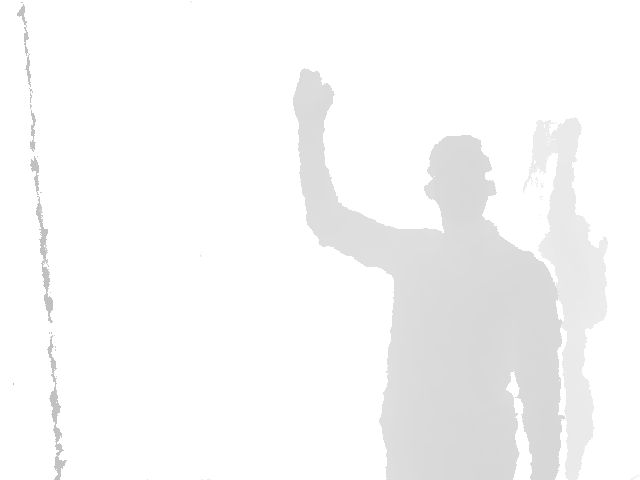hand: (292, 68, 335, 128), (553, 116, 582, 159)
head: (423, 134, 498, 231)
person: (292, 69, 566, 480), (520, 116, 611, 480)
